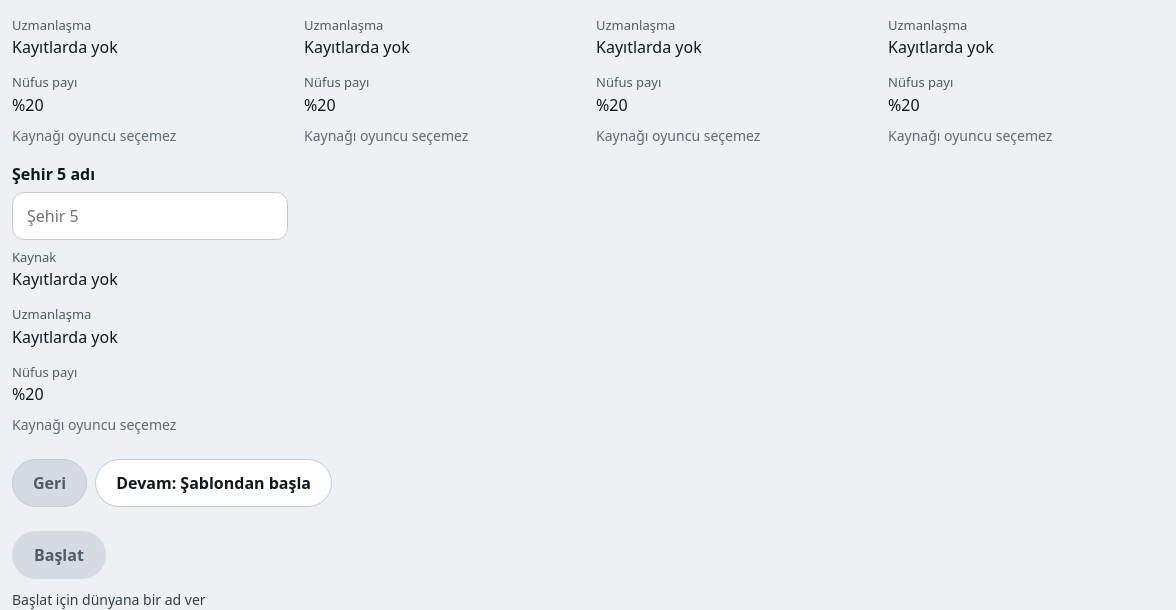
Test: Kayıt büyümesine dayanıklılık › bilinmeyen_kural_kimligi_kurucuyu_dusurmez
(page scrolled)
Click the button "Devam: Şablondan başla" at (214, 483), box [95,459,332,507]
(page scrolled)
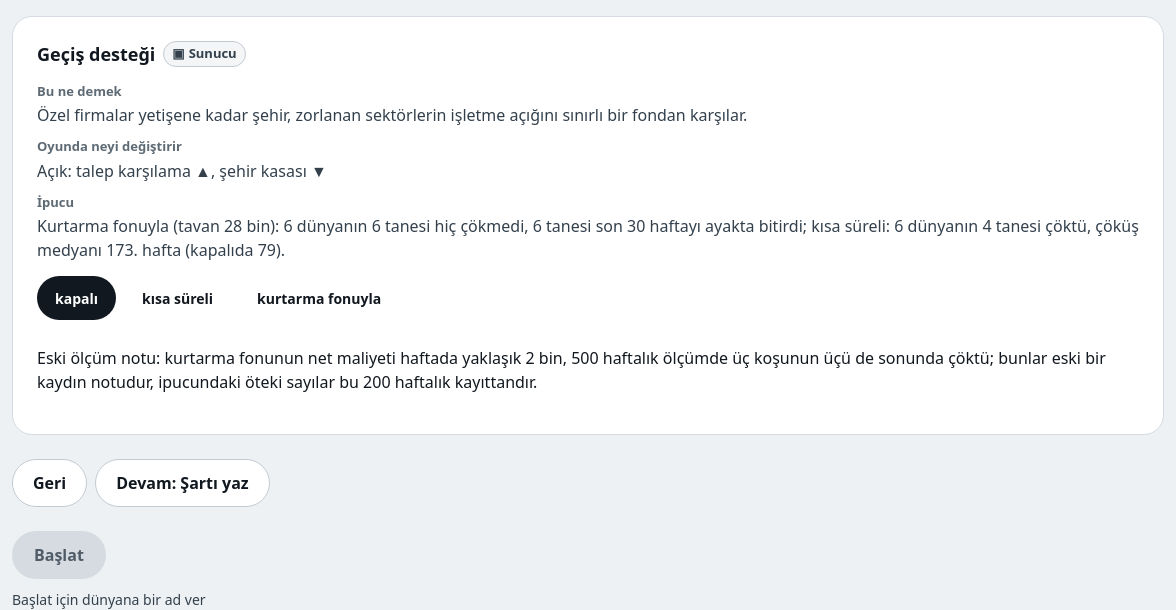
Click the button "Devam: Şartı yaz" at (182, 483), box [95,459,270,507]
(page scrolled)
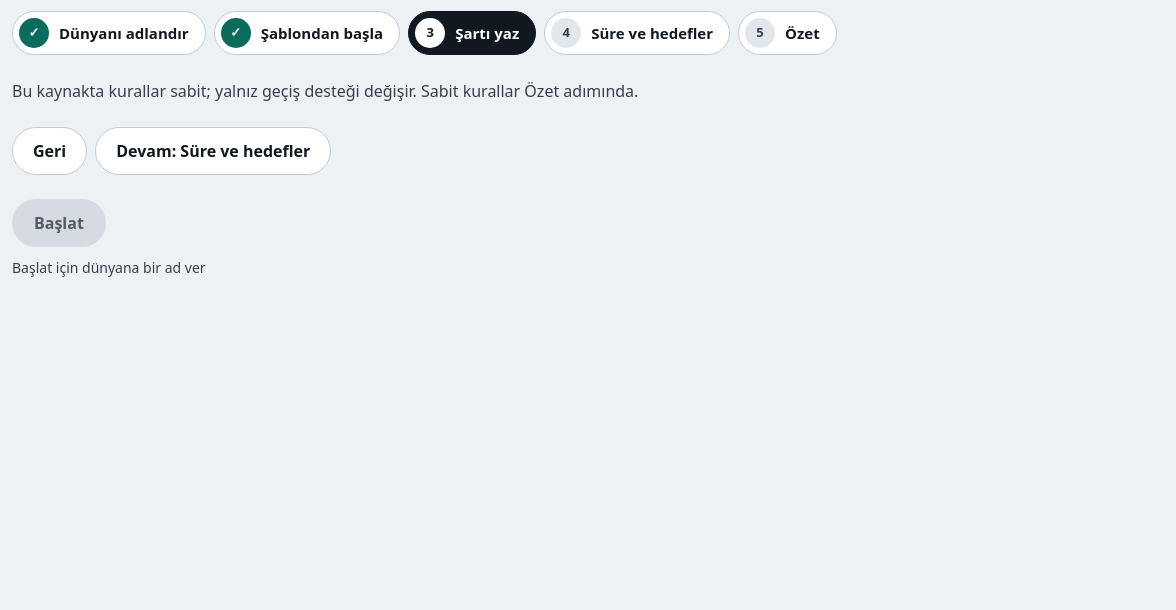
Click the button "Devam: Süre ve hedefler" at (213, 151), box [95,127,331,175]
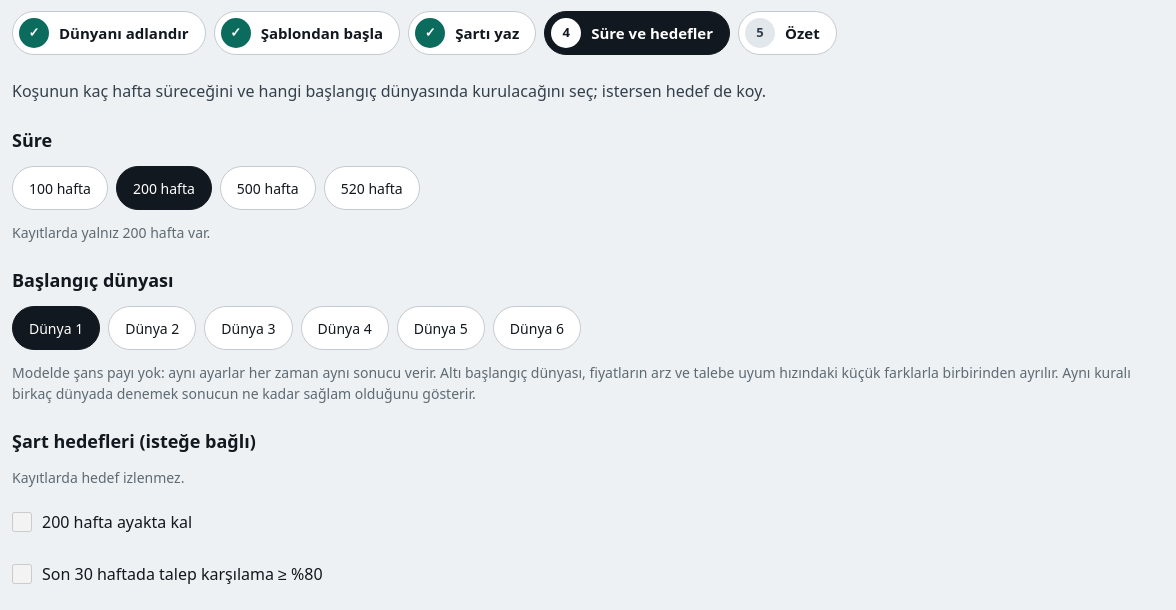
Result: the heading "Başlangıç dünyası" is shown at [12,268,174,292]
